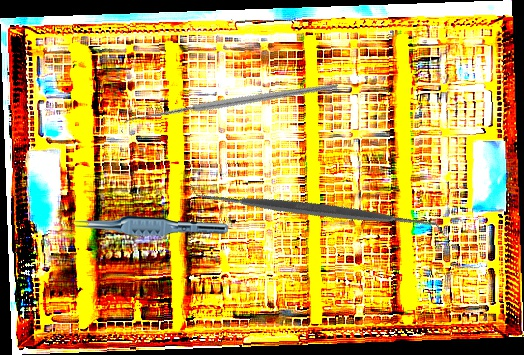Hook Surgical: (120, 17, 339, 199)
Spatula Surgical: (189, 82, 447, 339)
Tissue Forceps: (70, 213, 229, 238)
